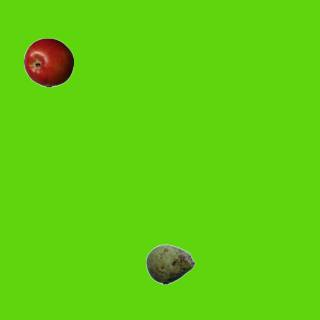Apple Braeburn: (23, 37, 73, 87)
Pear Stone: (145, 239, 195, 289)
